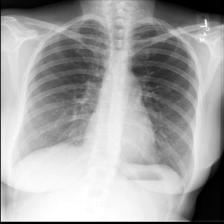normal: (13, 13, 197, 180)
